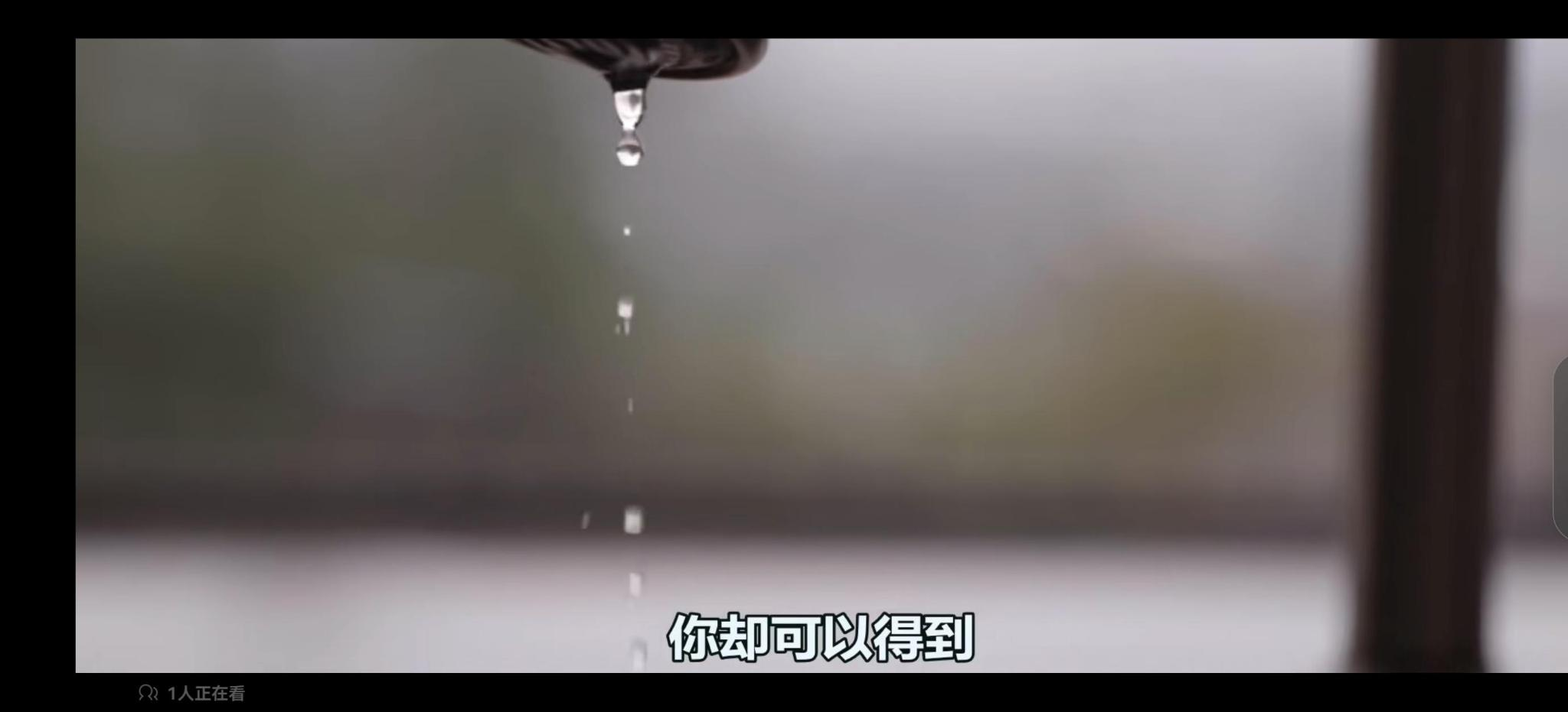water drop: (611, 82, 648, 173), (617, 501, 651, 542), (620, 569, 652, 609), (624, 636, 654, 672), (611, 294, 643, 322)
